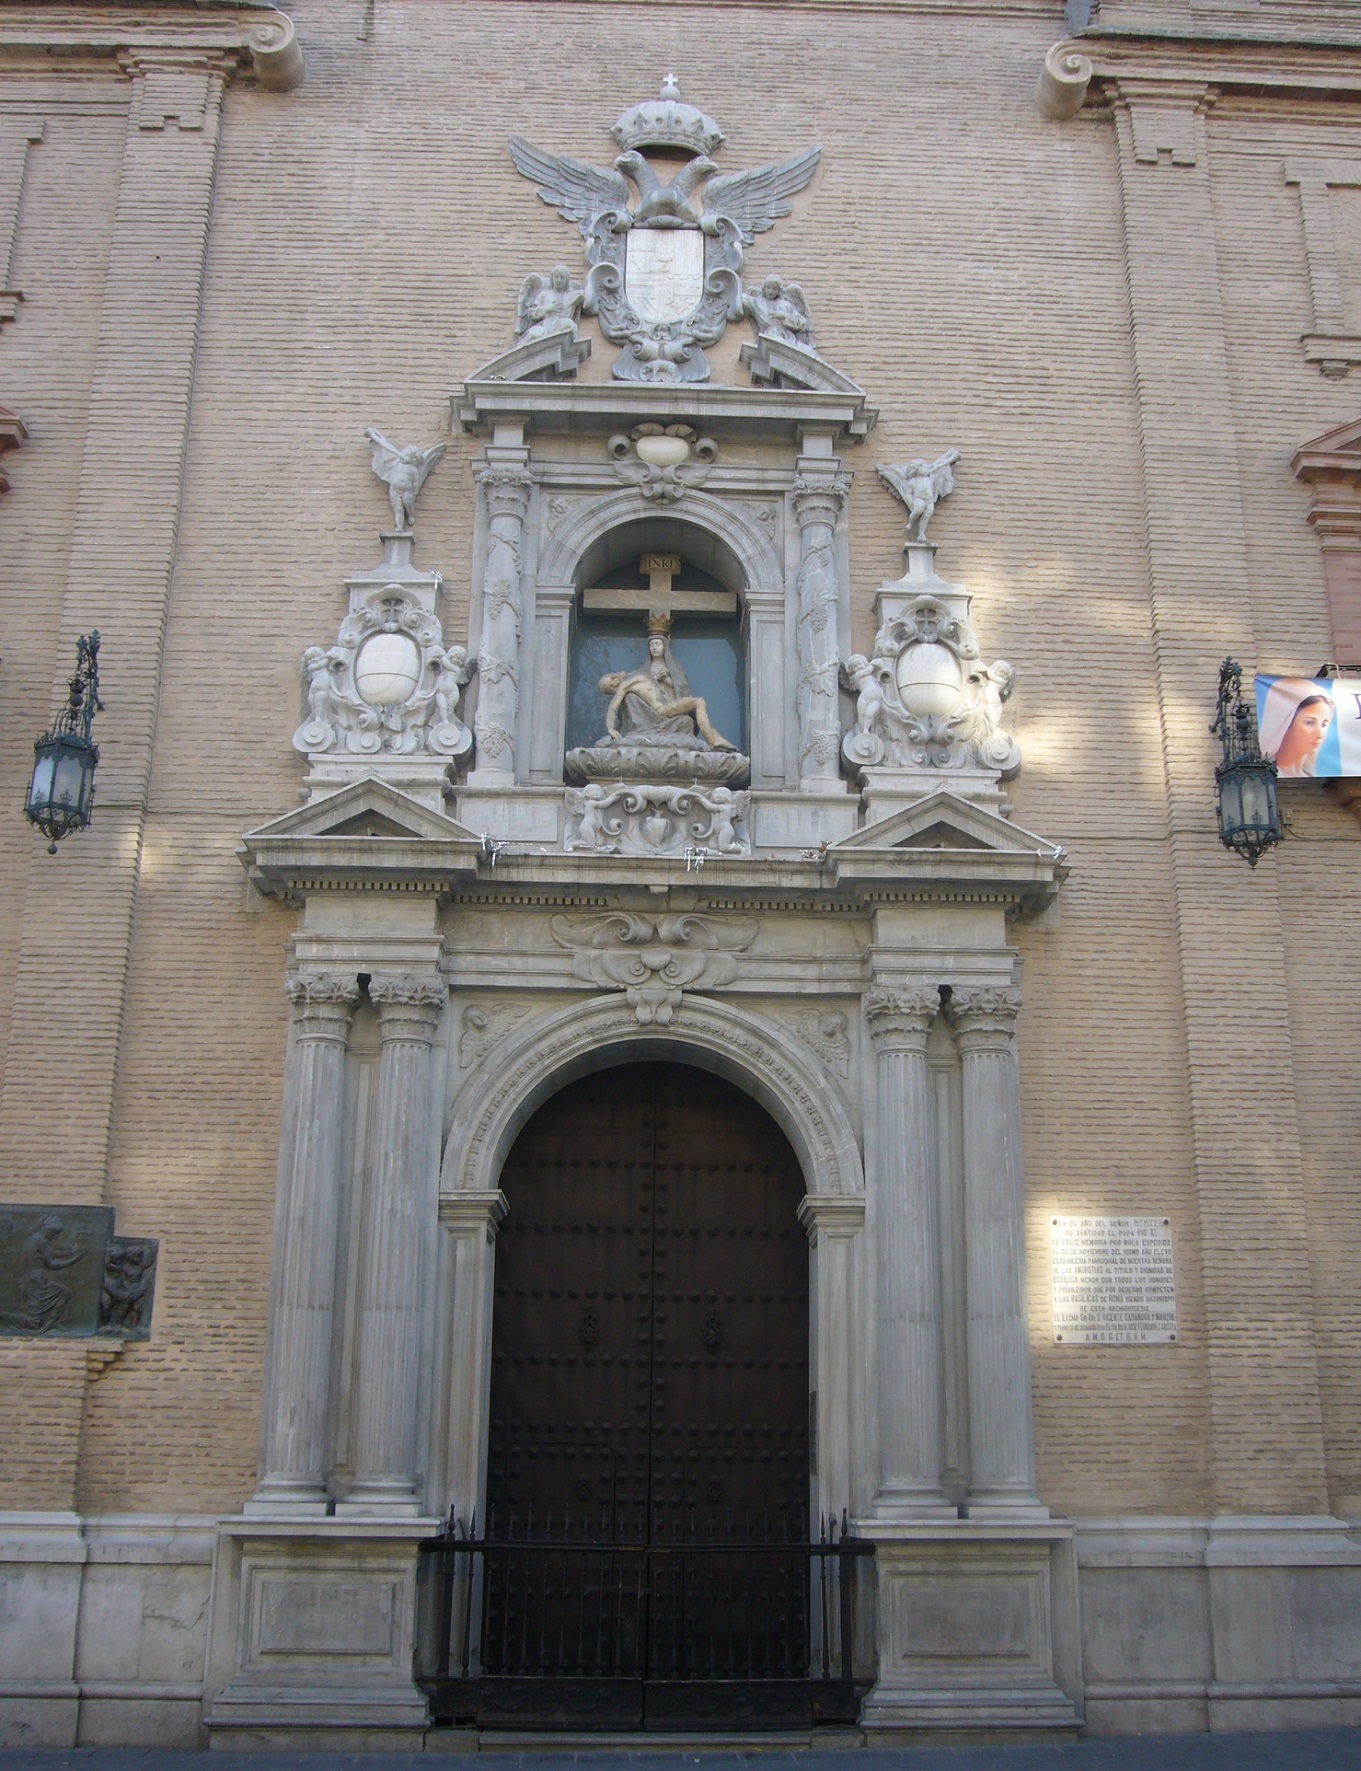arco-medio-punto: (477, 1025, 835, 1248), (552, 506, 769, 630)
fronton: (234, 773, 489, 866), (821, 790, 1072, 879)
fronton-partido: (457, 324, 875, 422)
